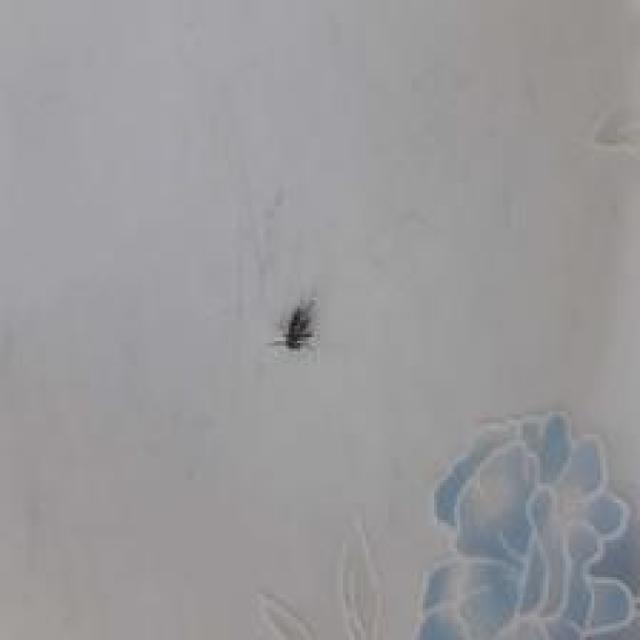Aedes albopictus: (270, 297, 319, 352)
